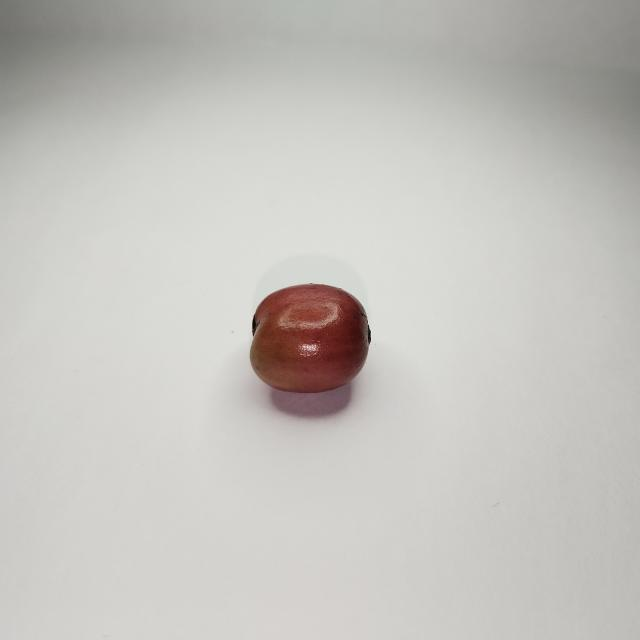Sano: (249, 284, 370, 398)
